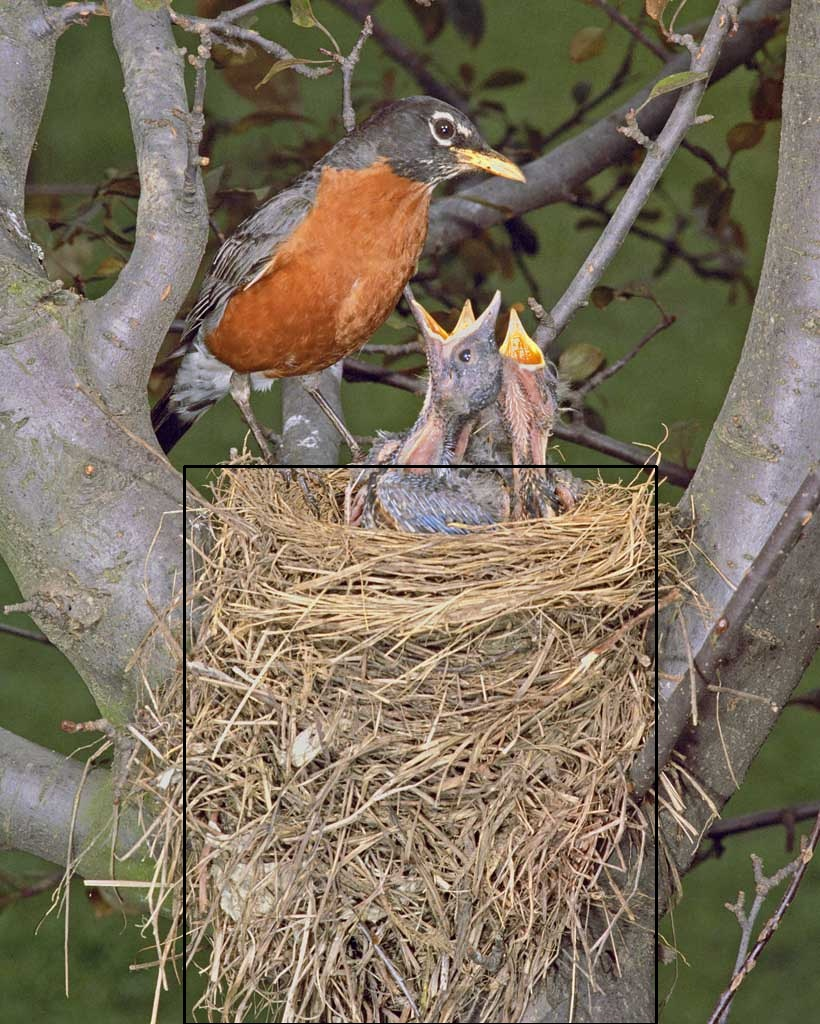bird-nest: (184, 466, 656, 1024)
